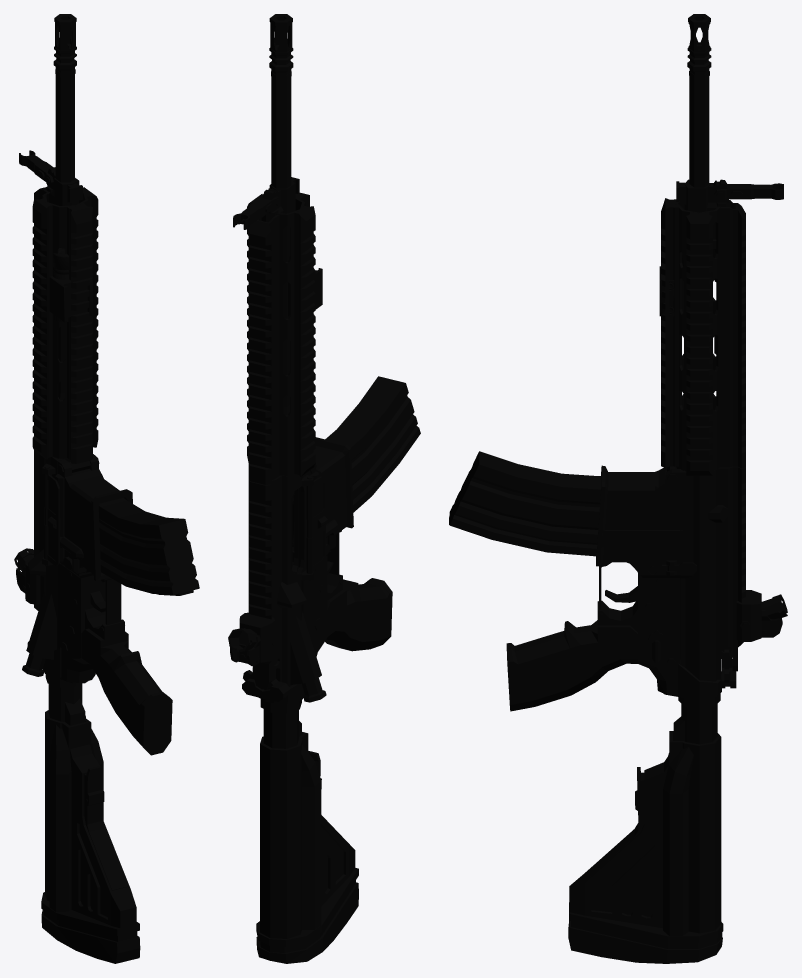
Rendered from HK416__Light_Pistol.fbx.
3 views of the same model, side by side, from view 1: azimuth 30°, elevation 25°; view 2: azimuth 150°, elevation 25°; view 3: azimuth 270°, elevation 25° (orthographic). The views are drawn at different scales.
Visible parts, largest first — view 1: asset_HK416.001; view 2: asset_HK416.001; view 3: asset_HK416.001.
Boxes of the visible parts, x1,y1,x2,y2 form: asset_HK416.001: (14,14,199,963); asset_HK416.001: (228,14,420,963); asset_HK416.001: (449,14,787,963).
Size of the model in its own units: 0.0385 by 0.48 by 0.1577.
